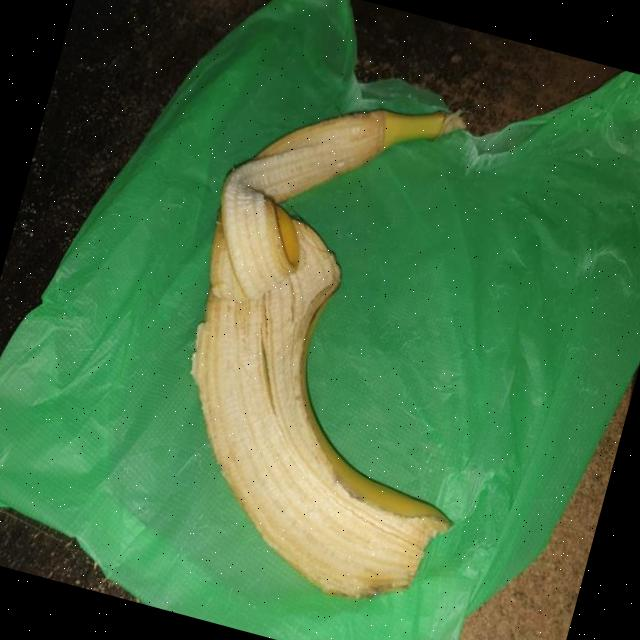banana-peel: (126, 55, 556, 620)
